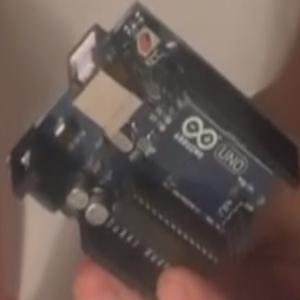duino: (15, 6, 296, 292)
